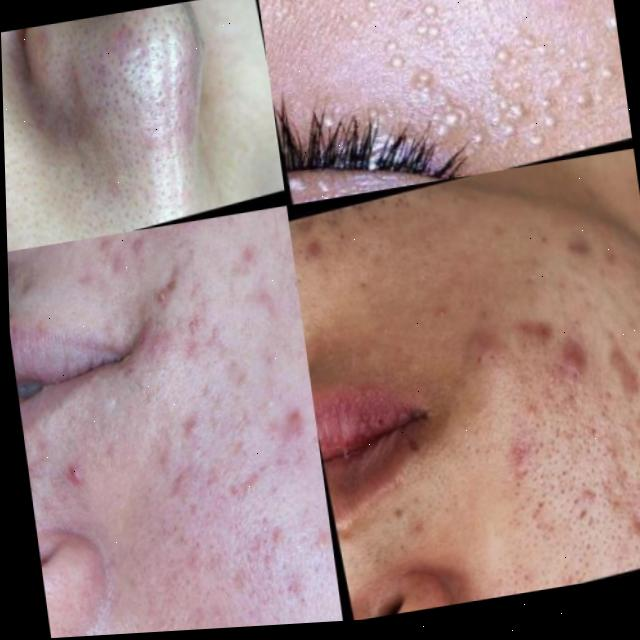Acne: (48, 255, 304, 569), (326, 0, 629, 161), (489, 279, 640, 524), (43, 0, 269, 147)
